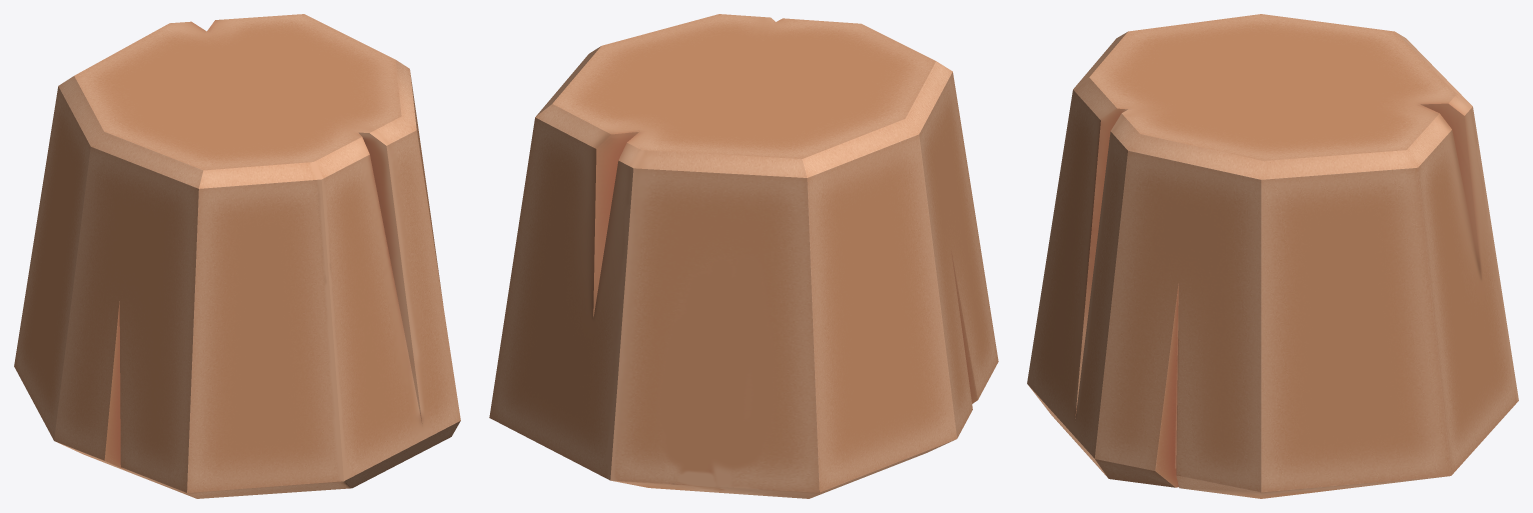
The model's file is desert_scatter_15.glb.
The picture shows the model from 3 angles, left to right: view 1: azimuth 30°, elevation 25°; view 2: azimuth 150°, elevation 25°; view 3: azimuth 270°, elevation 25°; orthographic projection. The views are drawn at different scales.
Parts seen in each view (by area): view 1: Rock_15_Rock_15_0; view 2: Rock_15_Rock_15_0; view 3: Rock_15_Rock_15_0.
Boxes of the visible parts, x1,y1,x2,y2 form: Rock_15_Rock_15_0: (14,14,460,498); Rock_15_Rock_15_0: (489,14,998,498); Rock_15_Rock_15_0: (1027,14,1518,498).
Size of the model in its own units: 1.55 by 1.2 by 1.63.
1 material, 1 textured.
